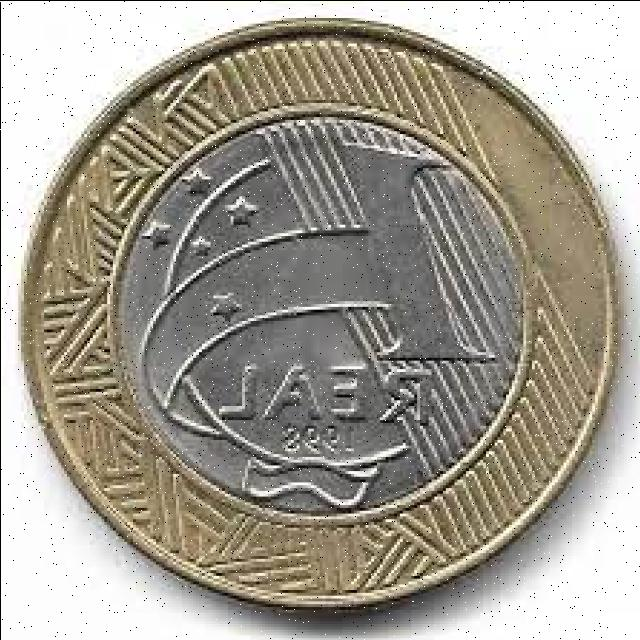1 real: (24, 16, 610, 603)
